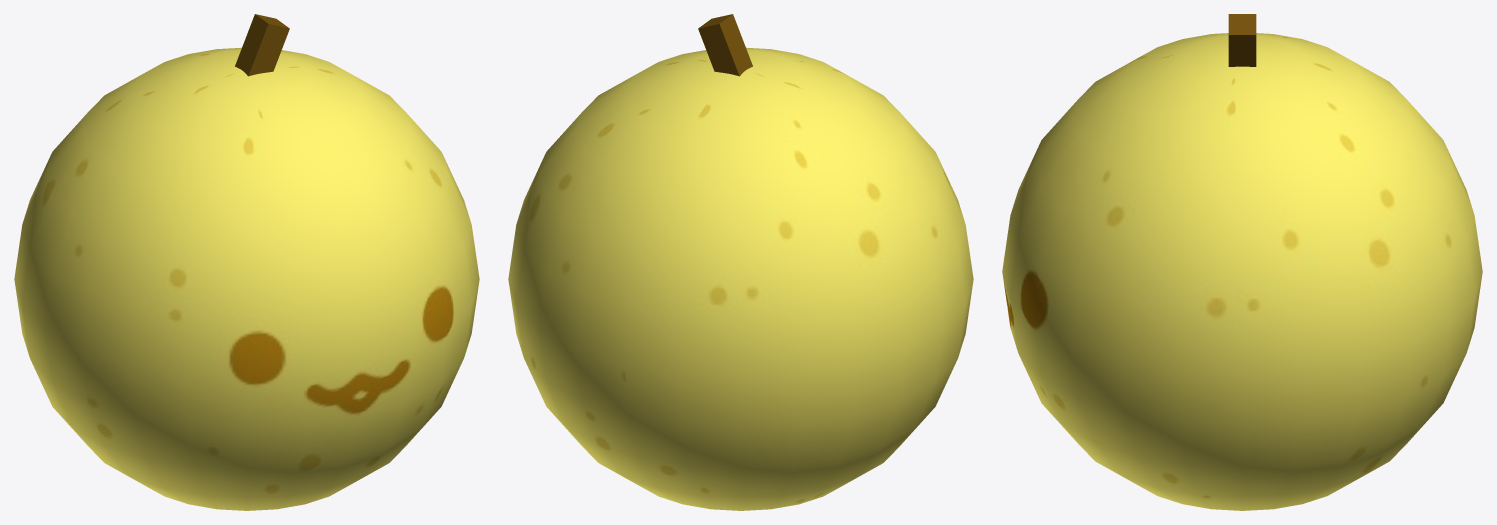
Rendered from fruit_6.glb.
3 views of the same model, side by side, from view 1: azimuth 30°, elevation 25°; view 2: azimuth 150°, elevation 25°; view 3: azimuth 270°, elevation 25° (orthographic). The views are drawn at different scales.
Parts seen in each view (by area): view 1: 6_FRUIT; view 2: 6_FRUIT; view 3: 6_FRUIT.
Boxes of the visible parts, bbox=[...] form: 6_FRUIT: bbox=[14, 14, 479, 510]; 6_FRUIT: bbox=[508, 14, 973, 510]; 6_FRUIT: bbox=[1002, 14, 1482, 510].
Size of the model in its own units: 2.1 by 2.33 by 2.1.
Materials: 2 (1 with a texture image).
